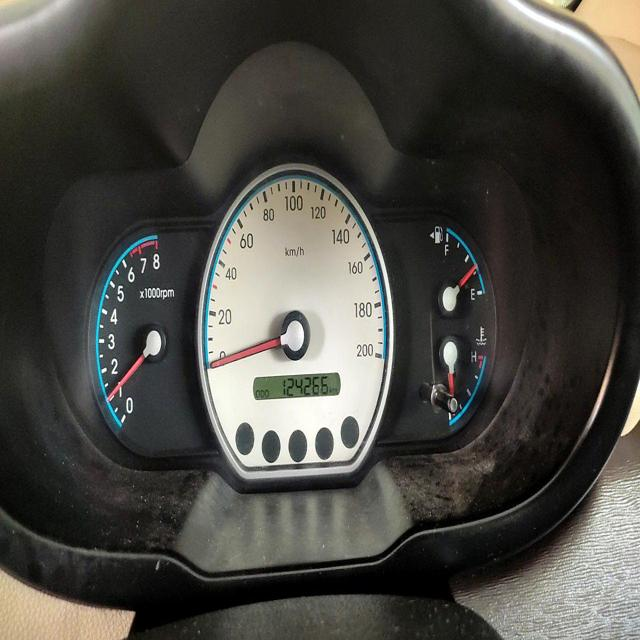odometer: (281, 373, 330, 400)
